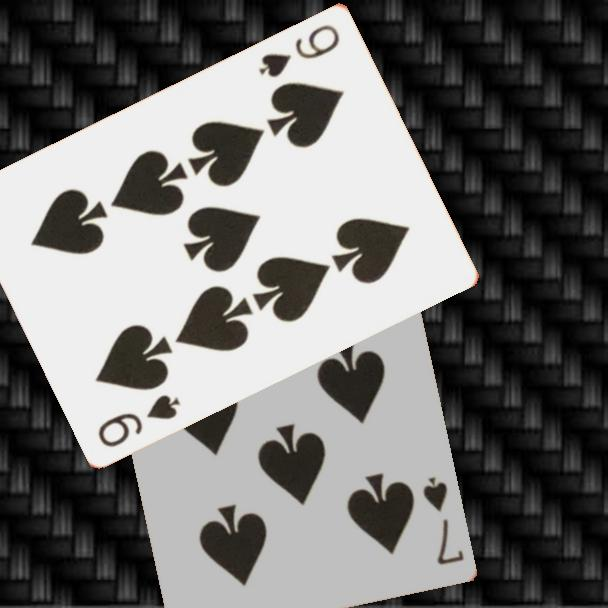s07: (420, 474, 468, 568)
s09: (94, 390, 184, 450), (255, 20, 343, 80)
